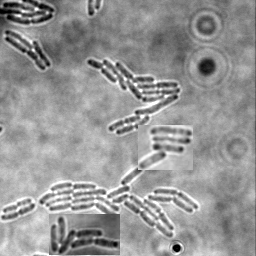Dividing: (1, 204, 37, 222), (3, 199, 33, 215)
Microcolony: (40, 167, 199, 238), (87, 59, 181, 136), (49, 214, 120, 255), (138, 125, 193, 170), (5, 30, 52, 72), (1, 1, 56, 26)
